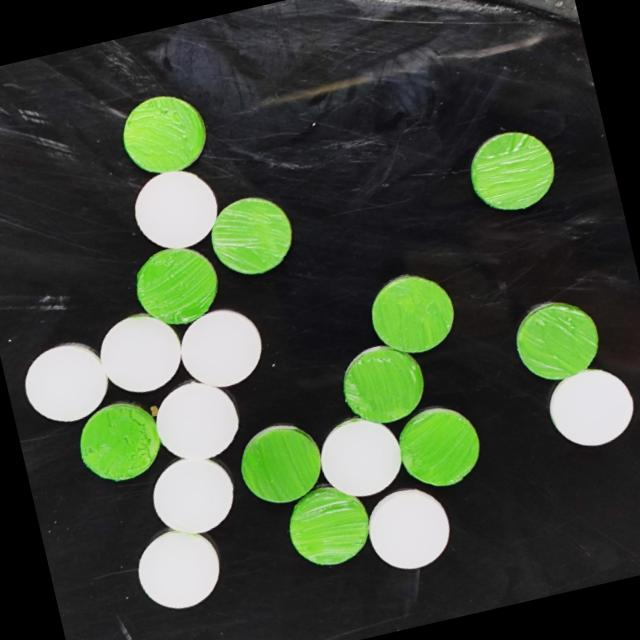disco blanco: (536, 354, 640, 455), (358, 477, 458, 578), (309, 408, 410, 505), (122, 162, 226, 255), (128, 522, 232, 615), (168, 300, 268, 396), (18, 333, 114, 428), (147, 448, 240, 544), (94, 304, 186, 399), (150, 376, 242, 467)
disco verde: (504, 287, 612, 390), (459, 120, 564, 220), (200, 187, 302, 286), (390, 397, 490, 495), (362, 266, 464, 362), (127, 238, 226, 334), (114, 86, 214, 181), (334, 335, 434, 430), (278, 480, 379, 573), (71, 395, 169, 488), (232, 418, 333, 508)
